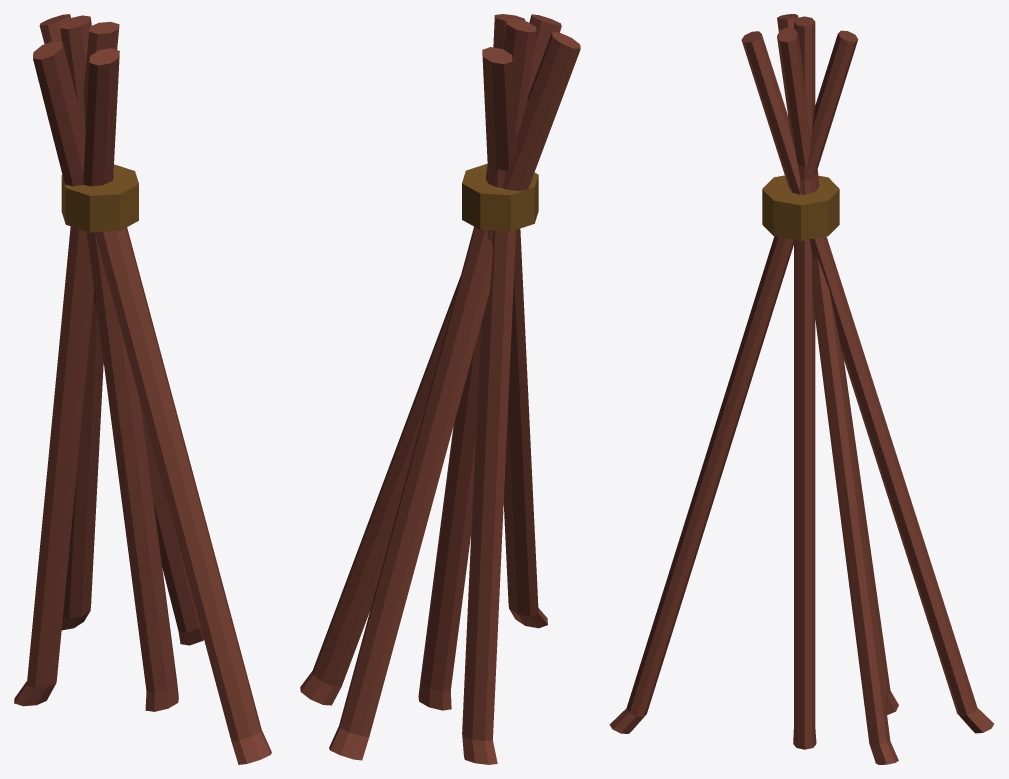
Rendered from sticks.fbx.
The picture shows the model from 3 angles, left to right: view 1: azimuth 30°, elevation 25°; view 2: azimuth 150°, elevation 25°; view 3: azimuth 270°, elevation 25°; orthographic projection. The views are drawn at different scales.
Parts seen in each view (by area): view 1: polySurface3; view 2: polySurface3; view 3: polySurface3.
Boxes of the visible parts, left/top/right/bottom form: polySurface3: left=14, top=14, right=271, bottom=764; polySurface3: left=300, top=14, right=580, bottom=764; polySurface3: left=609, top=14, right=993, bottom=764.
Size of the model in its own units: 0.8805 by 2.59 by 1.31.
Materials: 2 (1 with a texture image).
